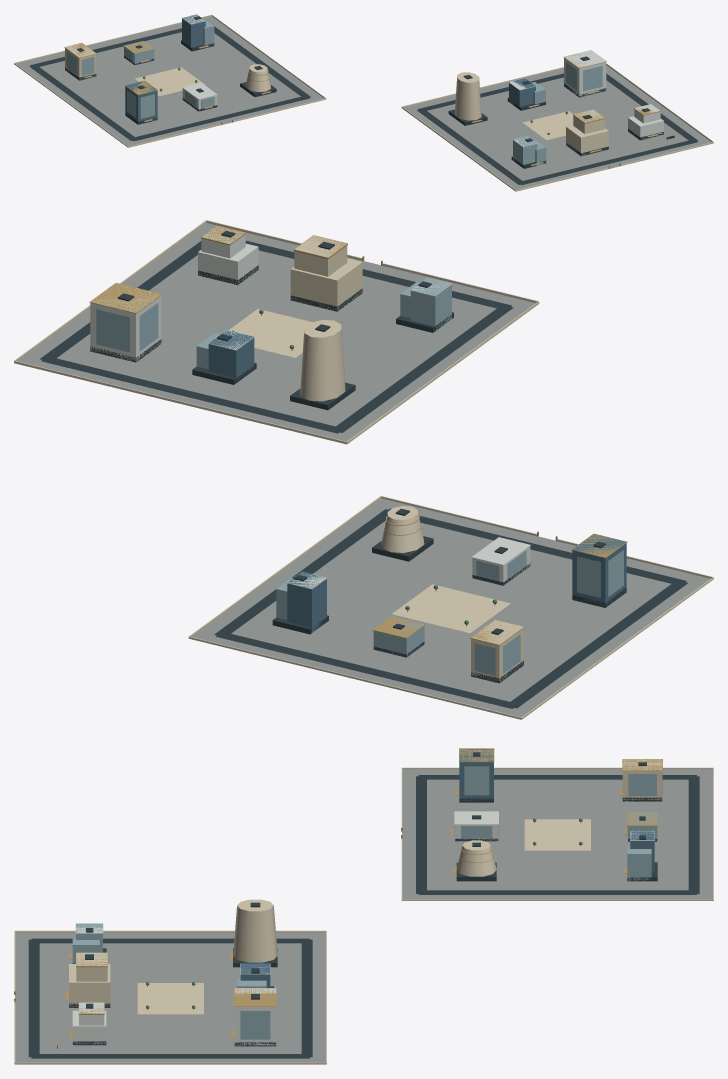
Rendered from GC-TILE-18-10.glb.
3 renders of one model, top to bottom at view 1: azimuth 30°, elevation 25°; view 2: azimuth 150°, elevation 25°; view 3: azimuth 270°, elevation 25°, orthographic. The views are drawn at different scales.
Visible parts, largest first — view 1: GC-TILE-18-10-paving, GC-TILE-18-10-ivory, GC-TILE-18-10-dark, GC-TILE-18-10-glass, GC-TILE-18-10-white, GC-TILE-18-10-blue, GC-TILE-18-10-gold; view 2: GC-TILE-18-10-paving, GC-TILE-18-10-ivory, GC-TILE-18-10-dark, GC-TILE-18-10-glass, GC-TILE-18-10-white, GC-TILE-18-10-blue, GC-TILE-18-10-gold; view 3: GC-TILE-18-10-paving, GC-TILE-18-10-ivory, GC-TILE-18-10-dark, GC-TILE-18-10-glass, GC-TILE-18-10-white, GC-TILE-18-10-gold, GC-TILE-18-10-blue.
Boxes of the visible parts, bbox=[...] form: GC-TILE-18-10-paving: bbox=[16, 16, 711, 189]; GC-TILE-18-10-ivory: bbox=[14, 14, 713, 191]; GC-TILE-18-10-dark: bbox=[29, 16, 698, 185]; GC-TILE-18-10-glass: bbox=[67, 19, 602, 165]; GC-TILE-18-10-white: bbox=[182, 14, 663, 147]; GC-TILE-18-10-blue: bbox=[125, 14, 535, 124]; GC-TILE-18-10-gold: bbox=[64, 41, 674, 168]; GC-TILE-18-10-paving: bbox=[18, 223, 710, 717]; GC-TILE-18-10-ivory: bbox=[14, 220, 713, 719]; GC-TILE-18-10-dark: bbox=[40, 231, 687, 708]; GC-TILE-18-10-glass: bbox=[96, 278, 623, 675]; GC-TILE-18-10-white: bbox=[90, 226, 530, 589]; GC-TILE-18-10-blue: bbox=[208, 330, 626, 632]; GC-TILE-18-10-gold: bbox=[89, 225, 627, 645]; GC-TILE-18-10-paving: bbox=[15, 769, 712, 1062]; GC-TILE-18-10-ivory: bbox=[14, 759, 713, 1064]; GC-TILE-18-10-dark: bbox=[28, 752, 699, 1058]; GC-TILE-18-10-glass: bbox=[72, 766, 662, 1039]; GC-TILE-18-10-white: bbox=[72, 811, 654, 1046]; GC-TILE-18-10-gold: bbox=[14, 748, 662, 1045]; GC-TILE-18-10-blue: bbox=[240, 748, 654, 987].
Bounding box in the file's own units: 759 × 66.44 × 760.
